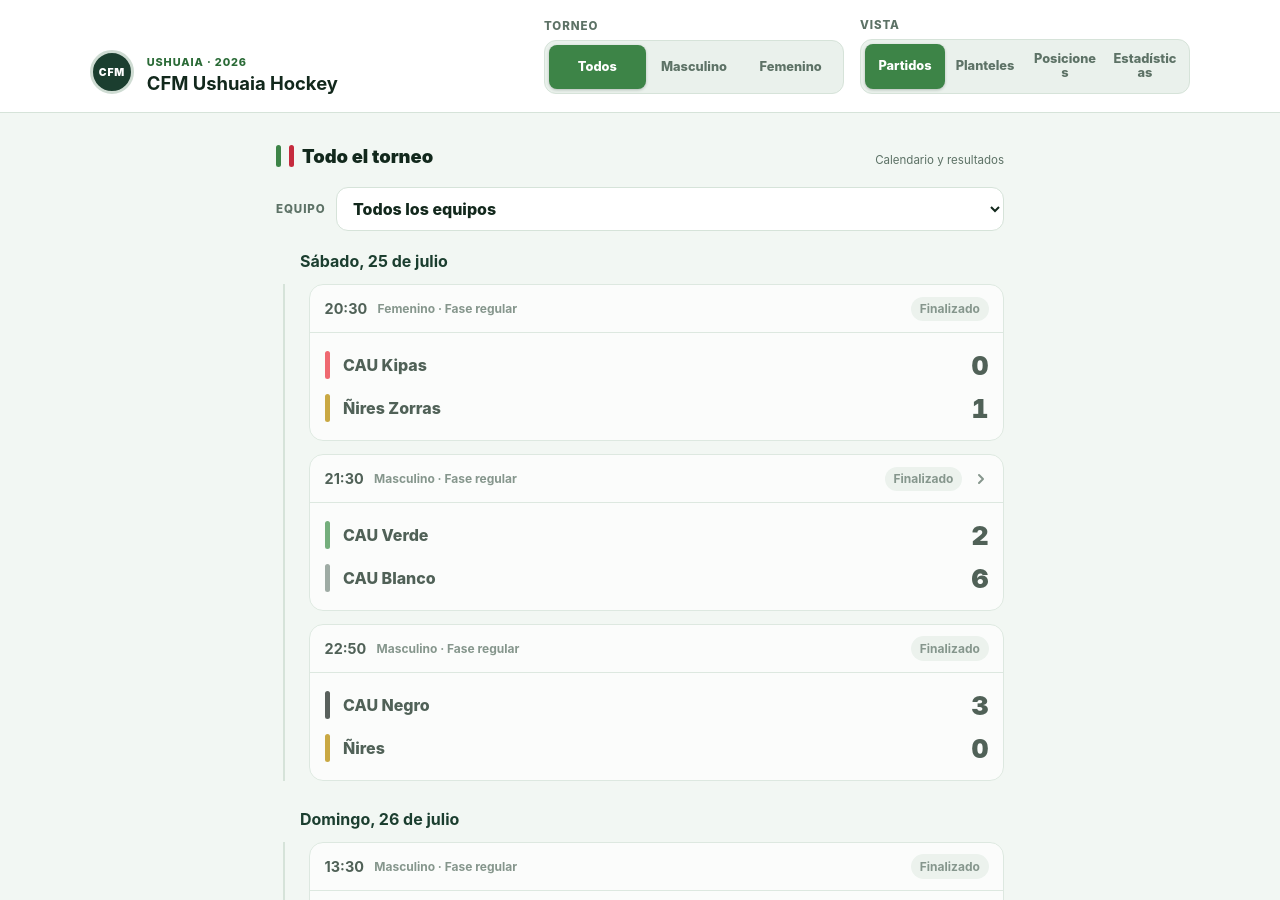
Test: statistics filtered by team › when no team is chosen › should show both tournaments
Click the button "Estadísticas".
click(1145, 66)  # box [1105,44,1185,89]
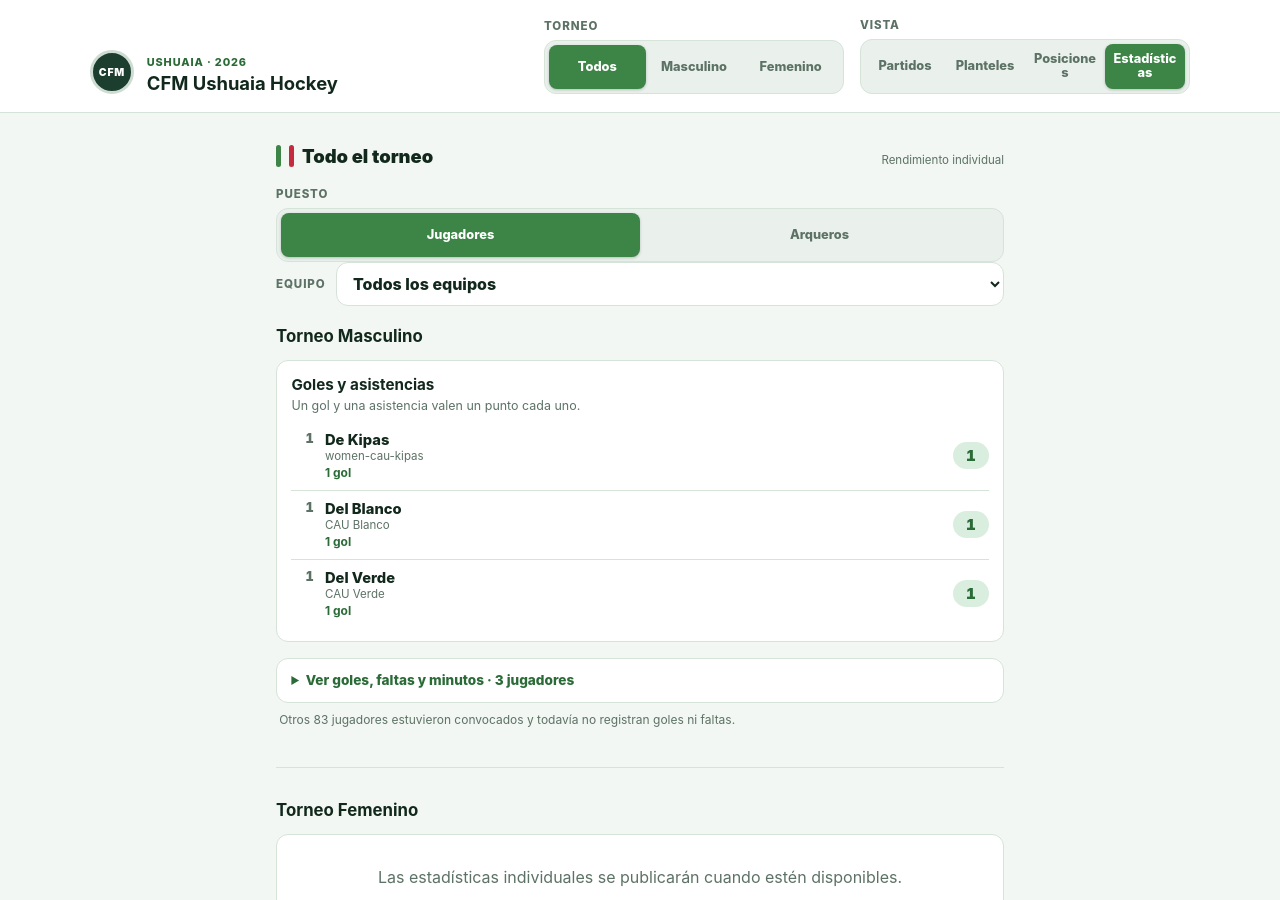
Expected: the text "Del Verde" is shown 2 times
Expected: the text "De Kipas" is shown 2 times
